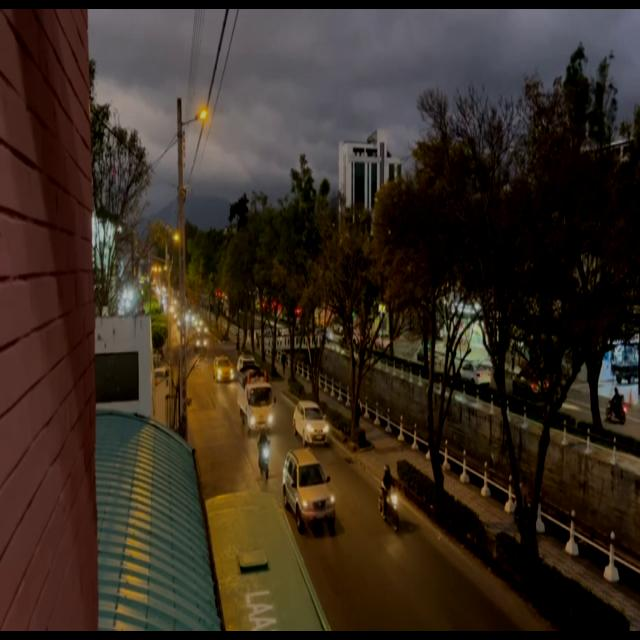MOTORCYCLE: (375, 485, 399, 535), (258, 439, 273, 480)
SED: (297, 404, 328, 443), (215, 357, 232, 381)
SUV: (285, 456, 333, 530)
TRUCK: (237, 370, 274, 431)
